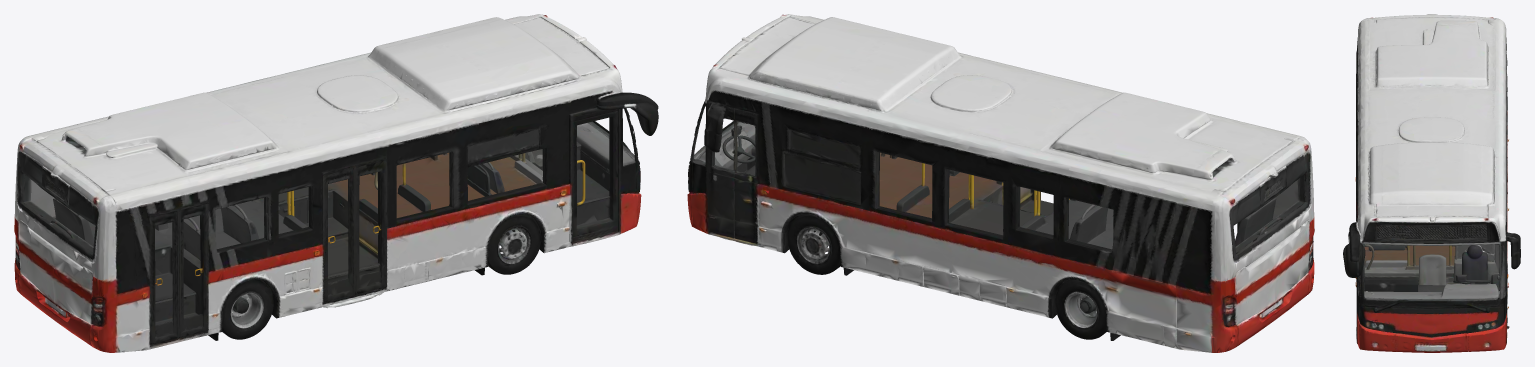
Rendered from Dubai Bus-optimized.glb.
3 views of the same model, side by side, from view 1: azimuth 30°, elevation 25°; view 2: azimuth 150°, elevation 25°; view 3: azimuth 270°, elevation 25° (orthographic). The views are drawn at different scales.
Visible parts, largest first — view 1: tripo_node_685c5a5a-5f7f-42f3-840c-627ef9f406d0; view 2: tripo_node_685c5a5a-5f7f-42f3-840c-627ef9f406d0; view 3: tripo_node_685c5a5a-5f7f-42f3-840c-627ef9f406d0.
Boxes of the visible parts, bbox=[...] form: tripo_node_685c5a5a-5f7f-42f3-840c-627ef9f406d0: bbox=[14, 14, 658, 352]; tripo_node_685c5a5a-5f7f-42f3-840c-627ef9f406d0: bbox=[687, 14, 1314, 352]; tripo_node_685c5a5a-5f7f-42f3-840c-627ef9f406d0: bbox=[1343, 14, 1520, 352].
Bounding box in the file's own units: 10.92 × 3.5 × 3.74.
Materials: 1 (1 with a texture image).
